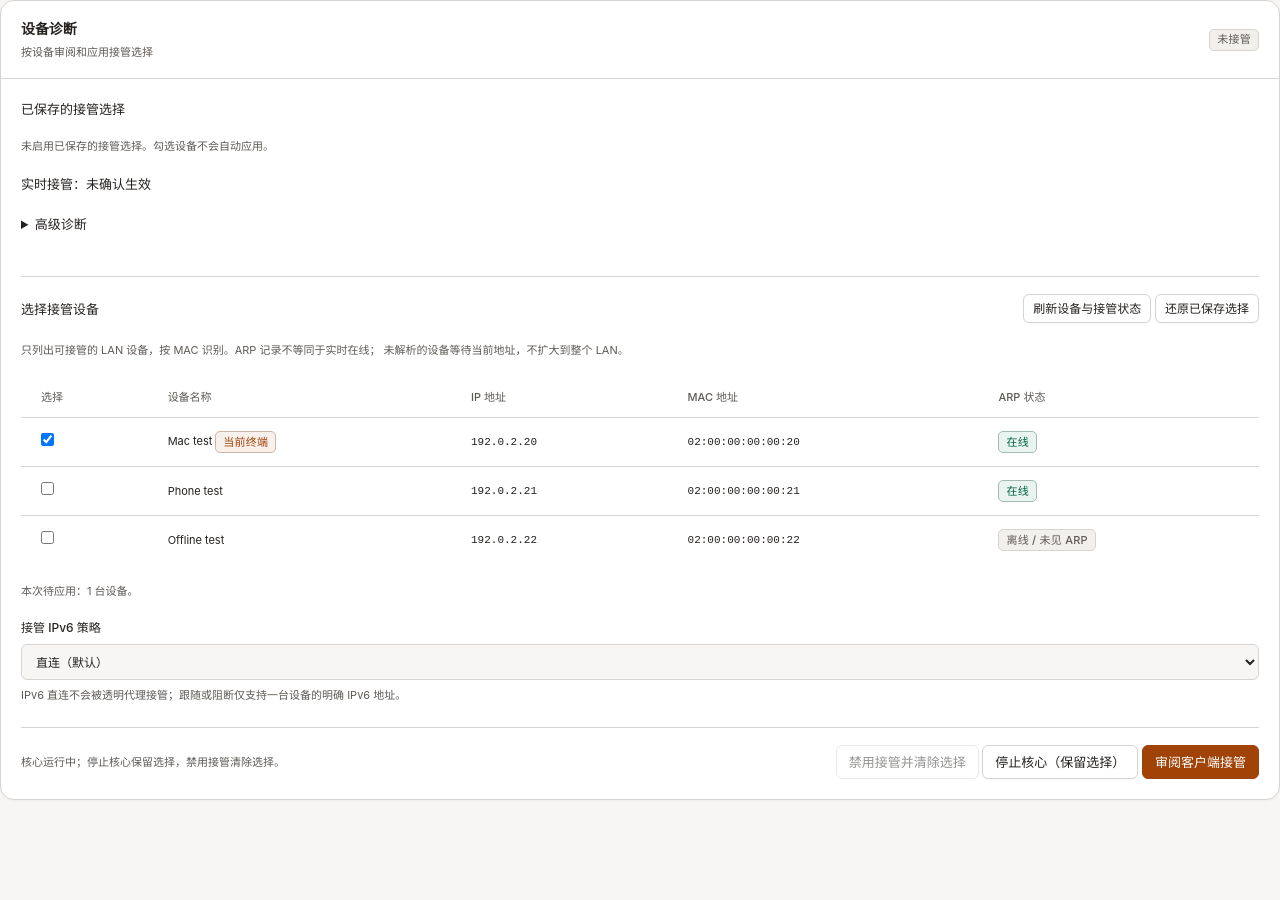
observed device capture › keeps a selected draft MAC visibly unresolved and removable after device refresh
Click the button "刷新设备与接管状态". click: coordinates (1087, 309)
box: left=1023, top=294, right=1151, bottom=323
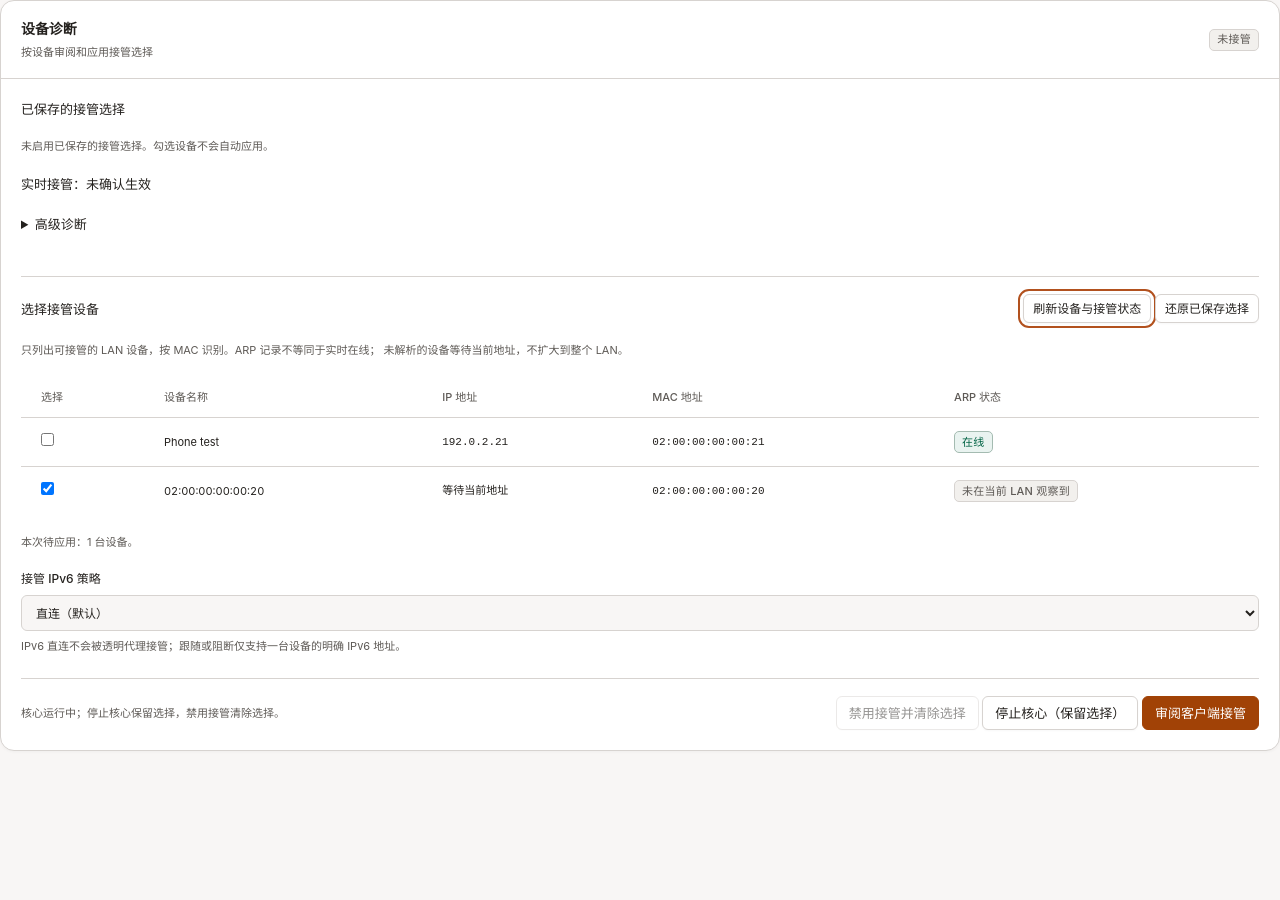
Now the text "未在当前 LAN 观察到" is shown, box left=954, top=480, right=1078, bottom=502
Now the text "192.0.2.20" is gone
Click the checkbox named "02:00:00:00:00:20". click: coordinates (48, 488)
box: left=41, top=482, right=54, bottom=495
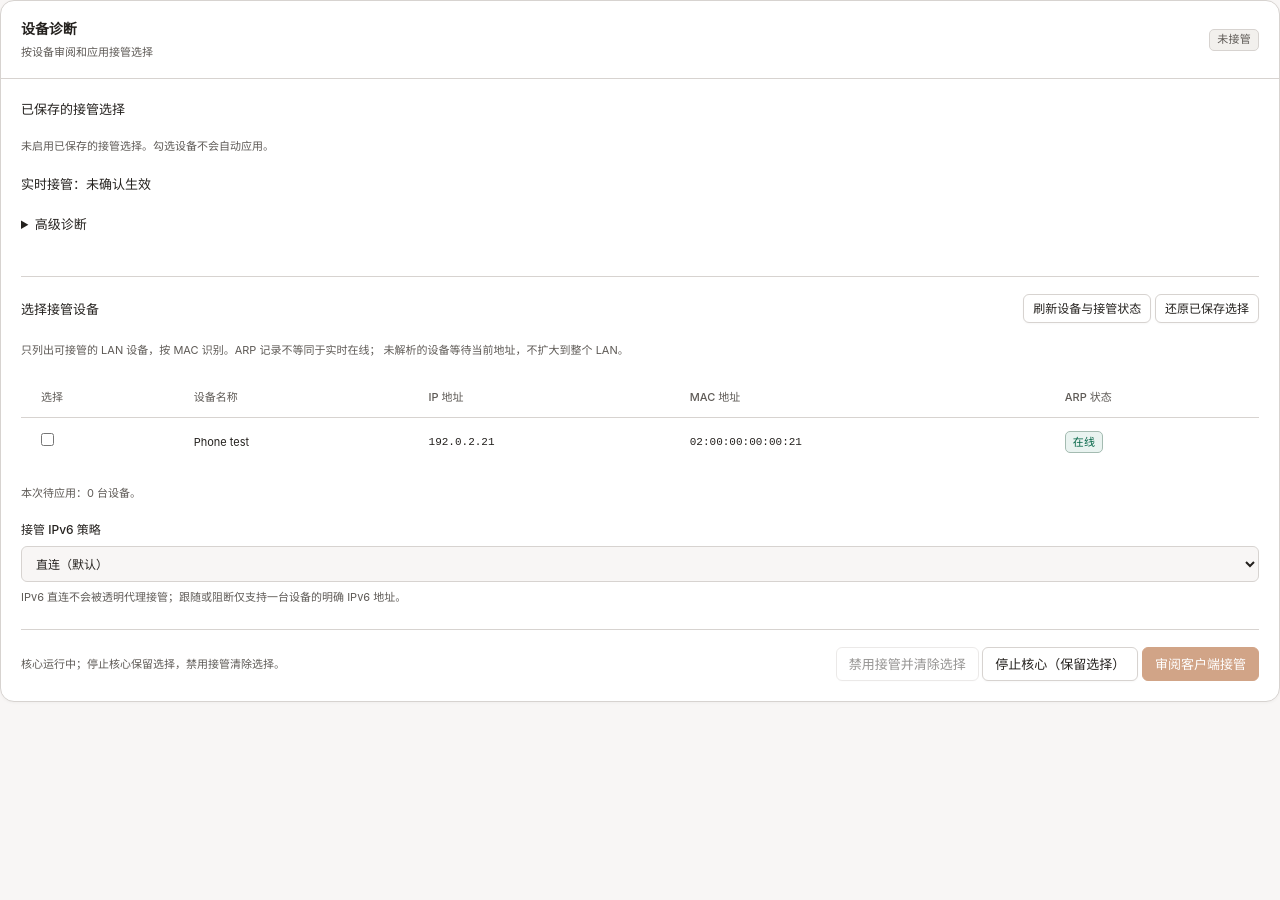
Now the cell "02:00:00:00:00:20" is gone
Now the button "审阅客户端接管" is disabled, box left=1142, top=647, right=1259, bottom=681
